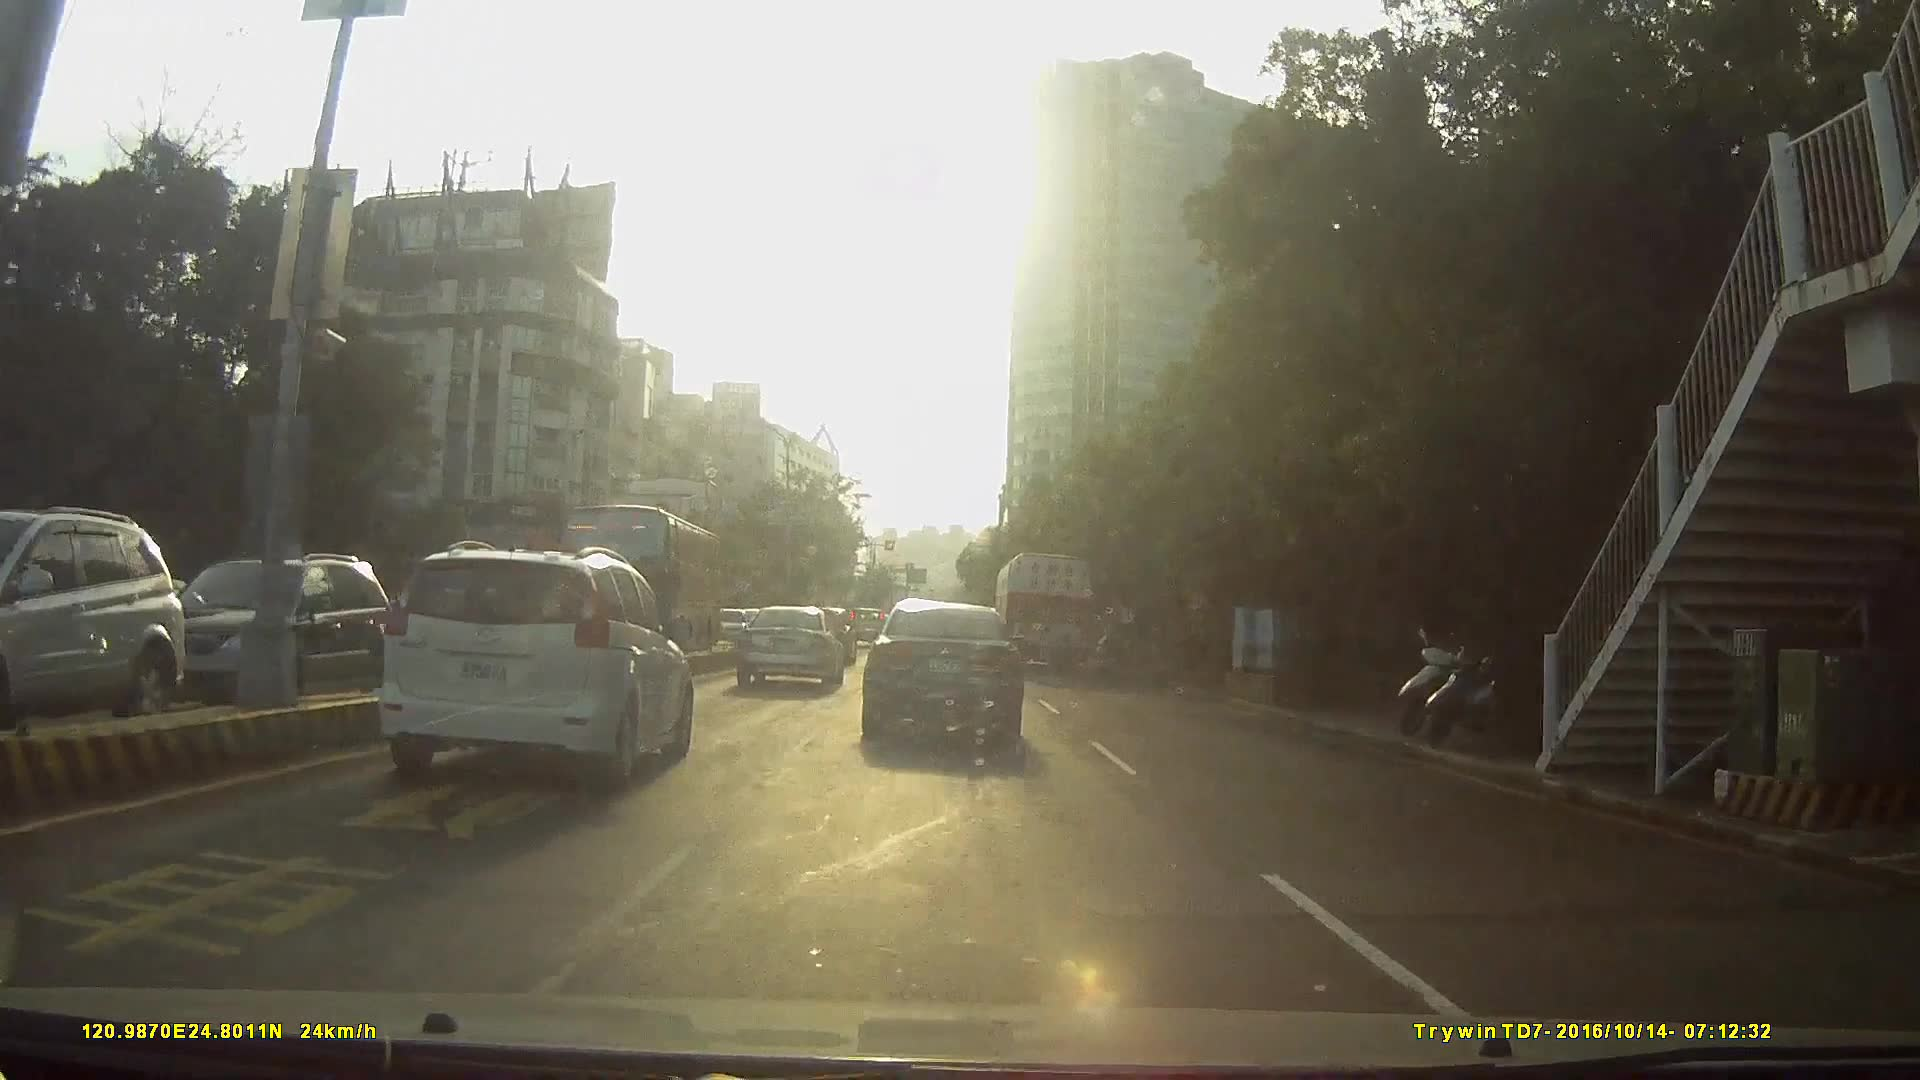vehicle: (251, 556, 684, 868), (377, 541, 694, 794), (1, 512, 220, 748), (136, 554, 400, 723), (860, 593, 1025, 761), (546, 502, 716, 653), (994, 554, 1098, 680), (733, 607, 843, 692), (843, 607, 890, 647)
